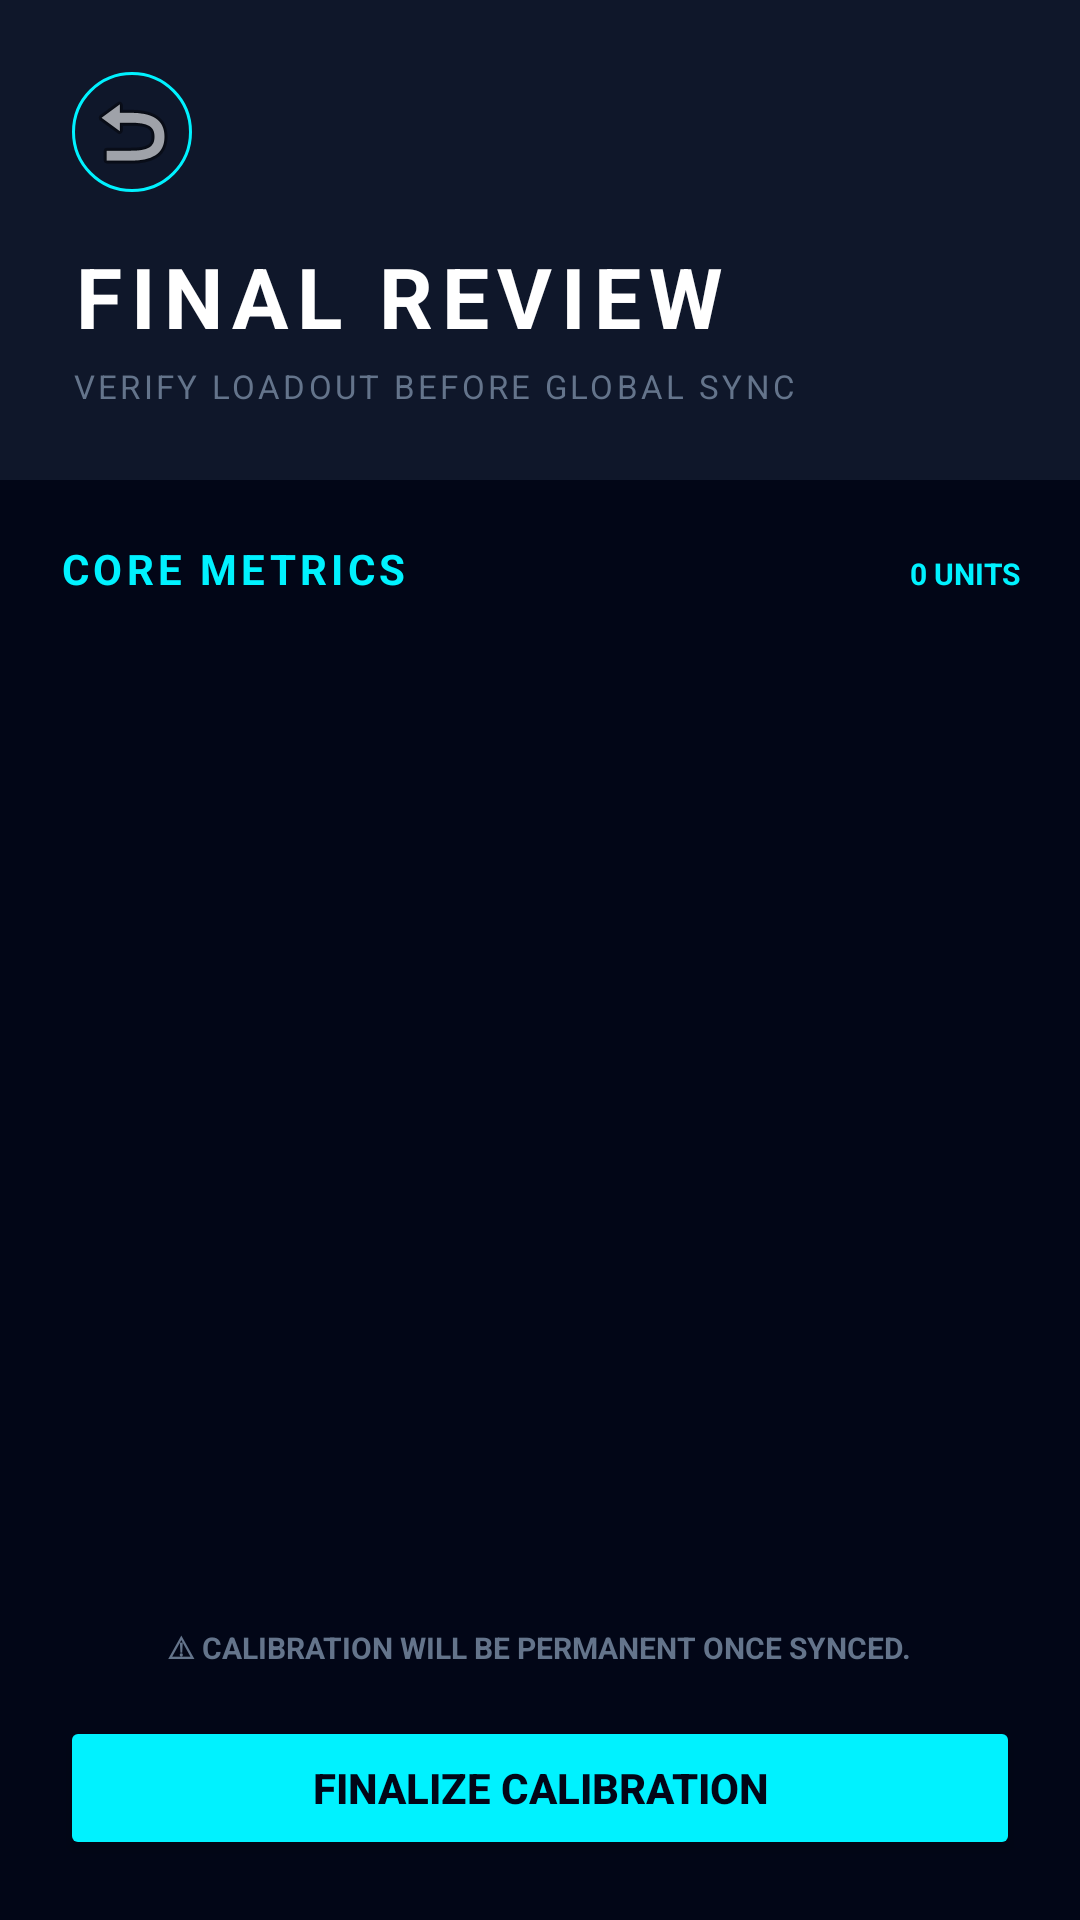

Icon bounding boxes for this 1080px x 1920px phone screenshot, format (x1, y1, x2, y2):
Back: (72, 72, 192, 192)
